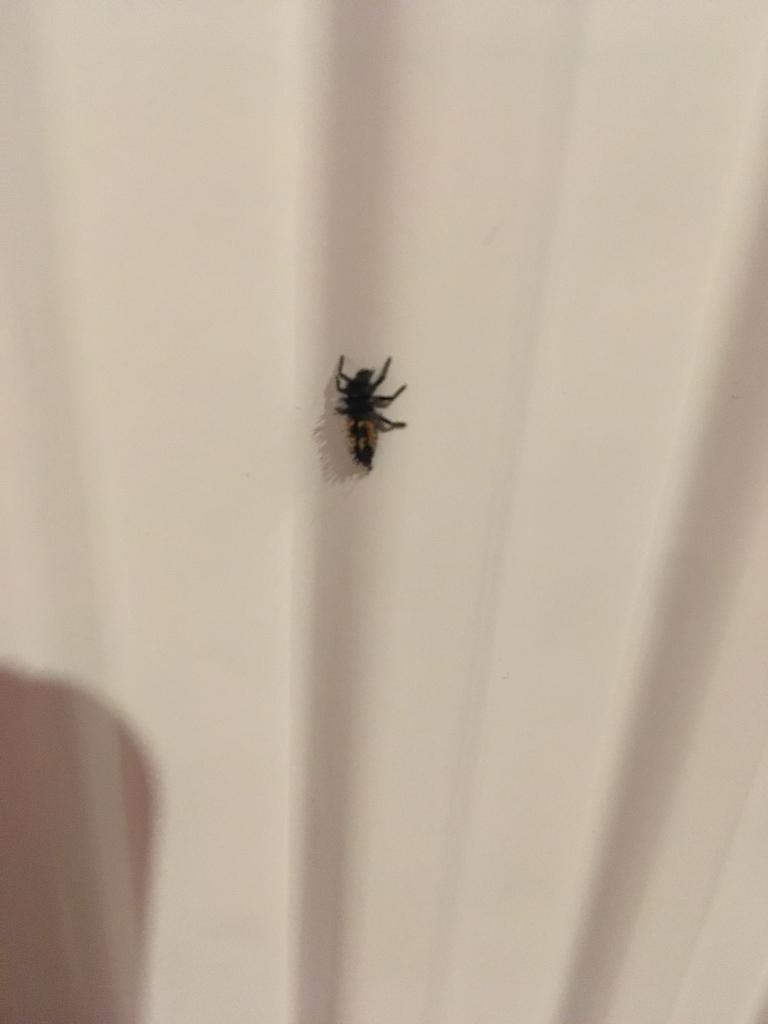ladybug: (329, 349, 416, 479)
